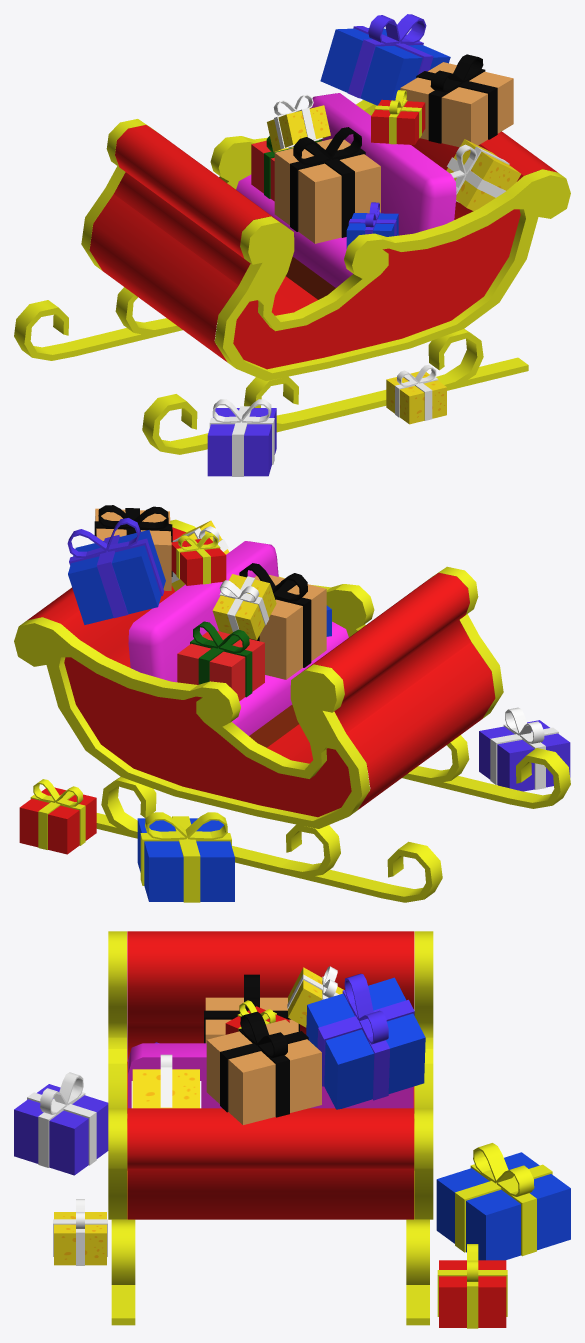
File: Xe tuan loc.FBX
The picture shows the model from 3 angles, top to bottom: view 1: azimuth 30°, elevation 25°; view 2: azimuth 150°, elevation 25°; view 3: azimuth 270°, elevation 25°; orthographic projection. The views are drawn at different scales.
Visible parts, largest first — view 1: Xe tuan loc, Box1262, Box1261; view 2: Xe tuan loc, Box1262; view 3: Xe tuan loc, Box1262.
Boxes of the visible parts, x1,y1,x2,y2 form: Xe tuan loc: (14, 54, 570, 476); Box1262: (320, 14, 450, 105); Box1261: (346, 202, 398, 248); Xe tuan loc: (14, 505, 570, 902); Box1262: (67, 518, 165, 624); Xe tuan loc: (14, 931, 570, 1328); Box1262: (306, 973, 425, 1109).
Bounding box in the file's own units: 6.37 × 4.16 × 6.39.
